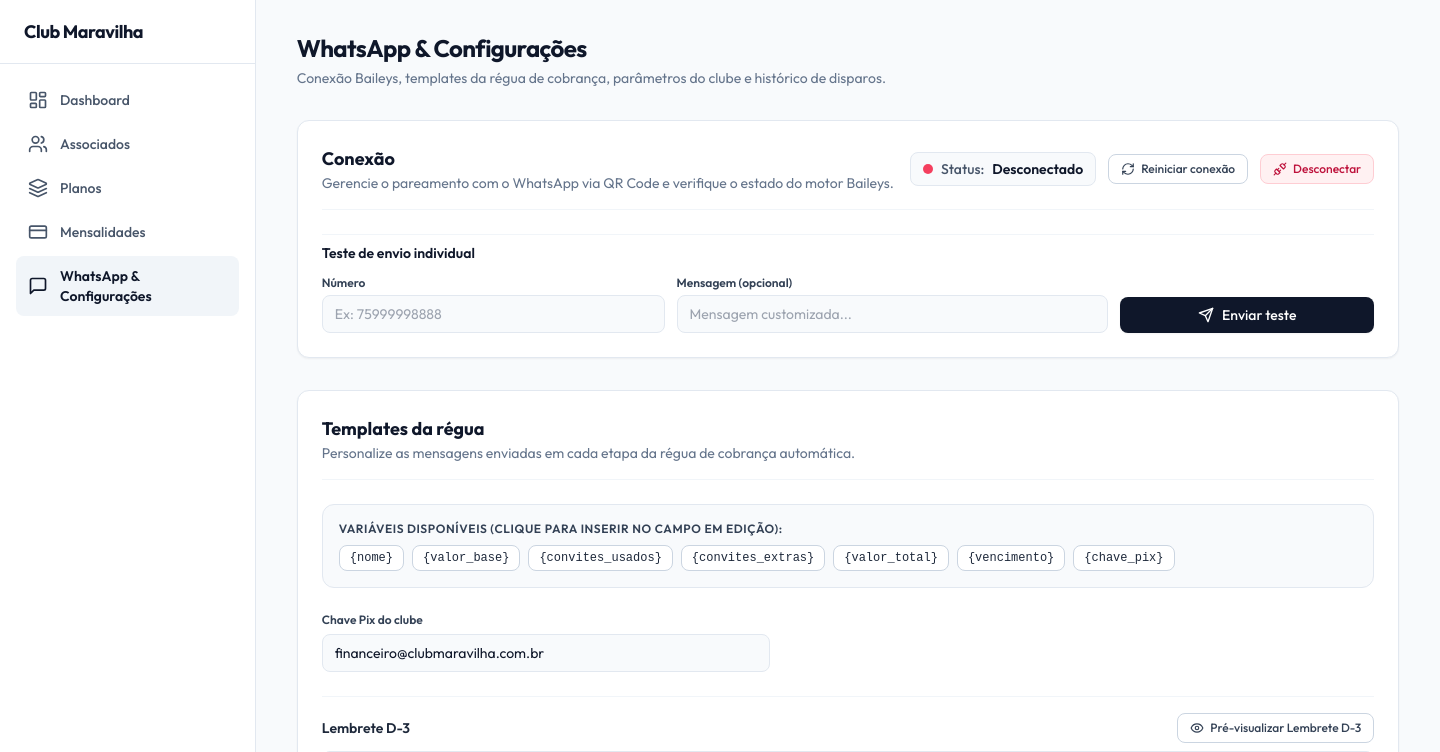
Scenario: WhatsAppConfigPage - conexão › erro ao reiniciar exibe o detail
Click the button "Reiniciar conexão".
click(1178, 169)  # box [1108,154,1248,184]
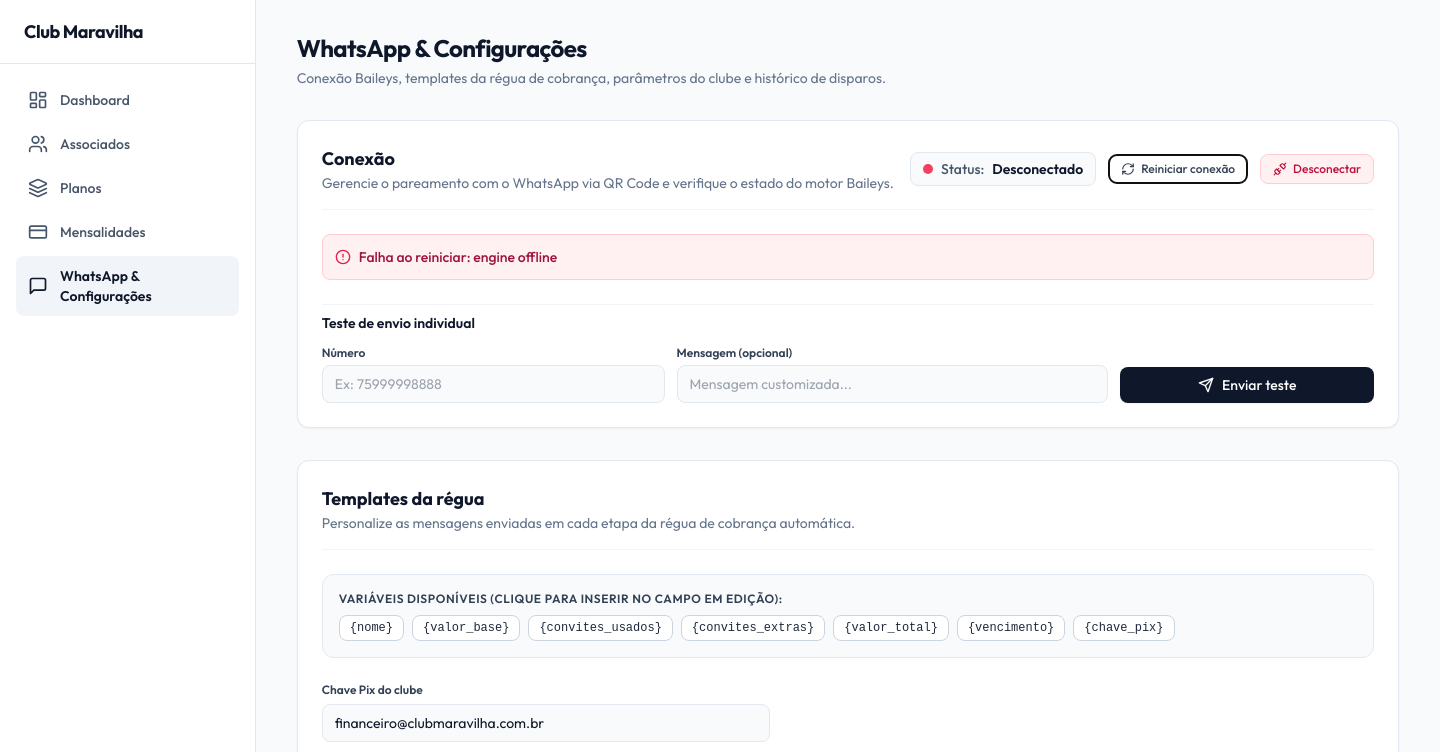
Result: the message reads "Falha ao reiniciar: engine offline" at [359,248,557,266]
